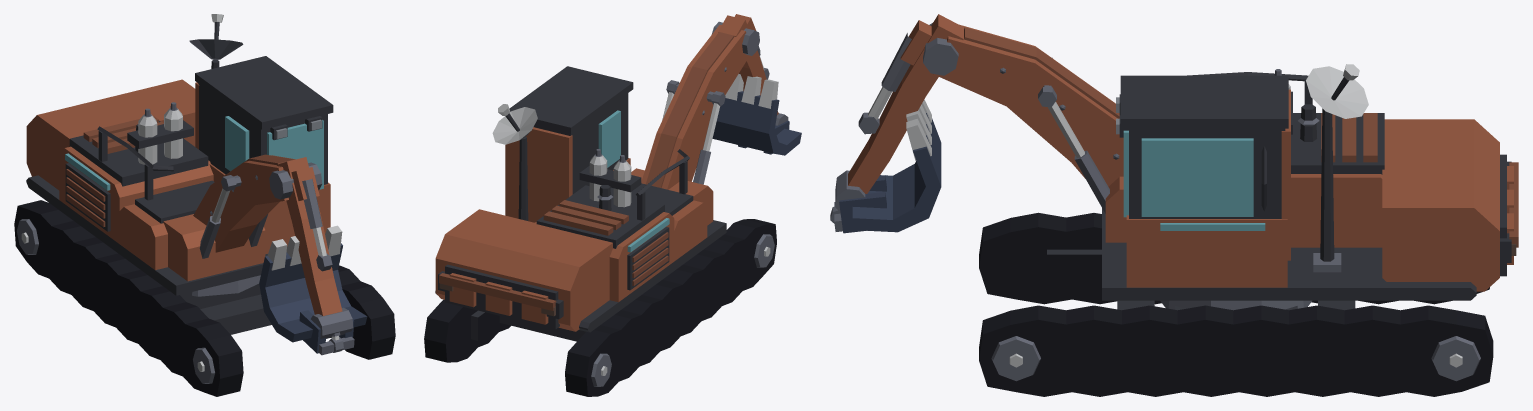
The model's file is regolith-excavator-06689b.glb.
3 renders of one model, left to right at view 1: azimuth 30°, elevation 25°; view 2: azimuth 150°, elevation 25°; view 3: azimuth 270°, elevation 25°, orthographic. The views are drawn at different scales.
Parts seen in each view (by area): view 1: house, undercarriage, boom-lower-mesh, bucket-mesh, boom-upper-mesh, tanks-mesh, antenna-mesh; view 2: house, undercarriage, boom-lower-mesh, bucket-mesh, antenna-mesh, tanks-mesh, boom-upper-mesh; view 3: house, undercarriage, boom-lower-mesh, boom-upper-mesh, bucket-mesh, antenna-mesh.
Boxes of the visible parts, x1,y1,x2,y2 form: house: (26, 56, 333, 295); undercarriage: (14, 200, 395, 396); boom-lower-mesh: (193, 154, 322, 258); bucket-mesh: (259, 225, 367, 355); boom-upper-mesh: (277, 157, 353, 338); tanks-mesh: (127, 102, 193, 164); antenna-mesh: (189, 14, 243, 68); house: (435, 66, 726, 332); undercarriage: (424, 219, 776, 396); boom-lower-mesh: (641, 21, 759, 189); bucket-mesh: (712, 74, 801, 155); antenna-mesh: (492, 104, 537, 220); tanks-mesh: (579, 149, 641, 207); boom-upper-mesh: (718, 14, 788, 125); house: (1102, 72, 1518, 300); undercarriage: (979, 212, 1493, 396); boom-lower-mesh: (923, 23, 1123, 213); boom-upper-mesh: (835, 14, 963, 212); bucket-mesh: (830, 99, 941, 233); antenna-mesh: (1306, 64, 1368, 272).
Size of the model in its own units: 2.3 by 2.96 by 5.9.
